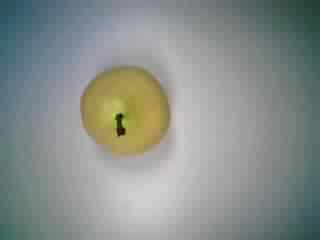pear: (71, 61, 176, 164)
